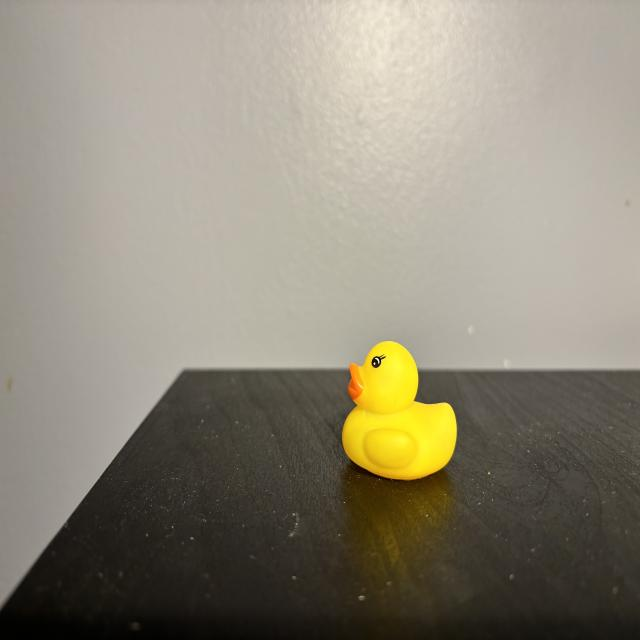duck_regular: (343, 343, 458, 481)
